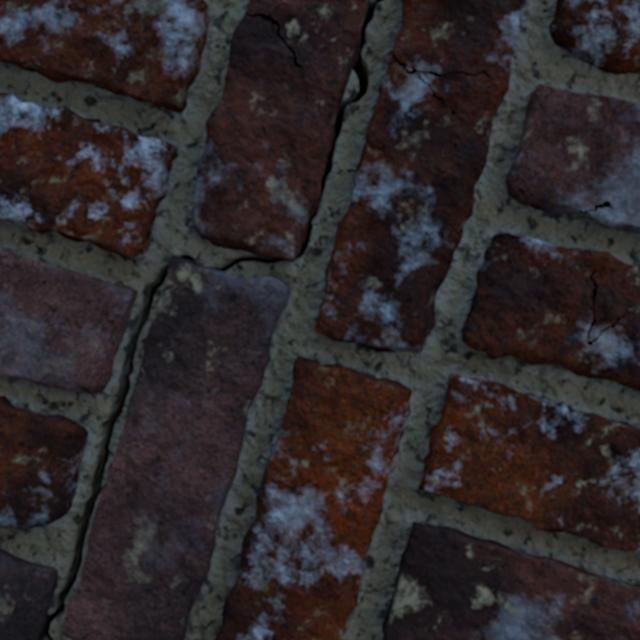crack: (0, 0, 383, 639), (315, 0, 526, 352), (214, 356, 411, 639), (419, 374, 639, 551), (382, 522, 639, 639), (0, 93, 177, 260), (462, 233, 639, 390), (0, 0, 208, 112), (506, 84, 639, 233), (0, 250, 137, 394), (0, 396, 88, 529), (549, 0, 639, 74)
